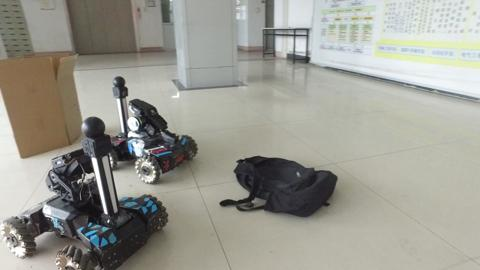bag: (229, 149, 338, 220)
box: (1, 53, 78, 146)
chariot: (2, 115, 171, 268), (100, 75, 199, 184)
